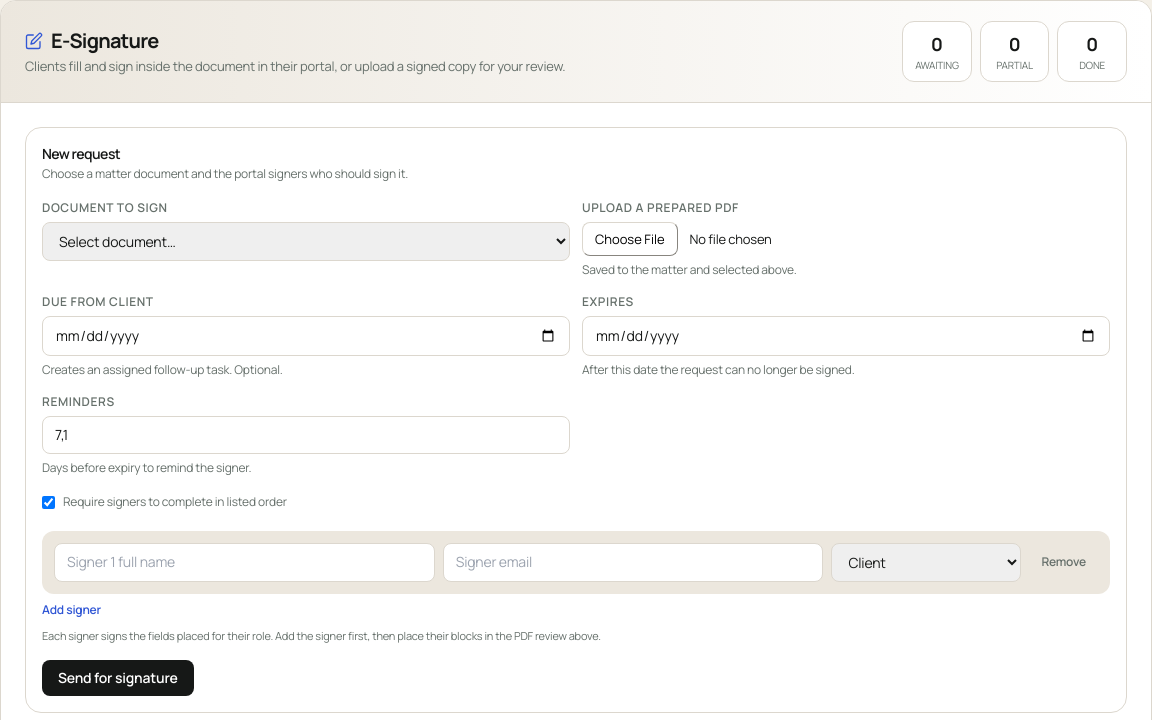
Test: gives each added signer their own role so their fields stay separate
Click the button "Add signer" at (72, 610), box left=42, top=602, right=101, bottom=618
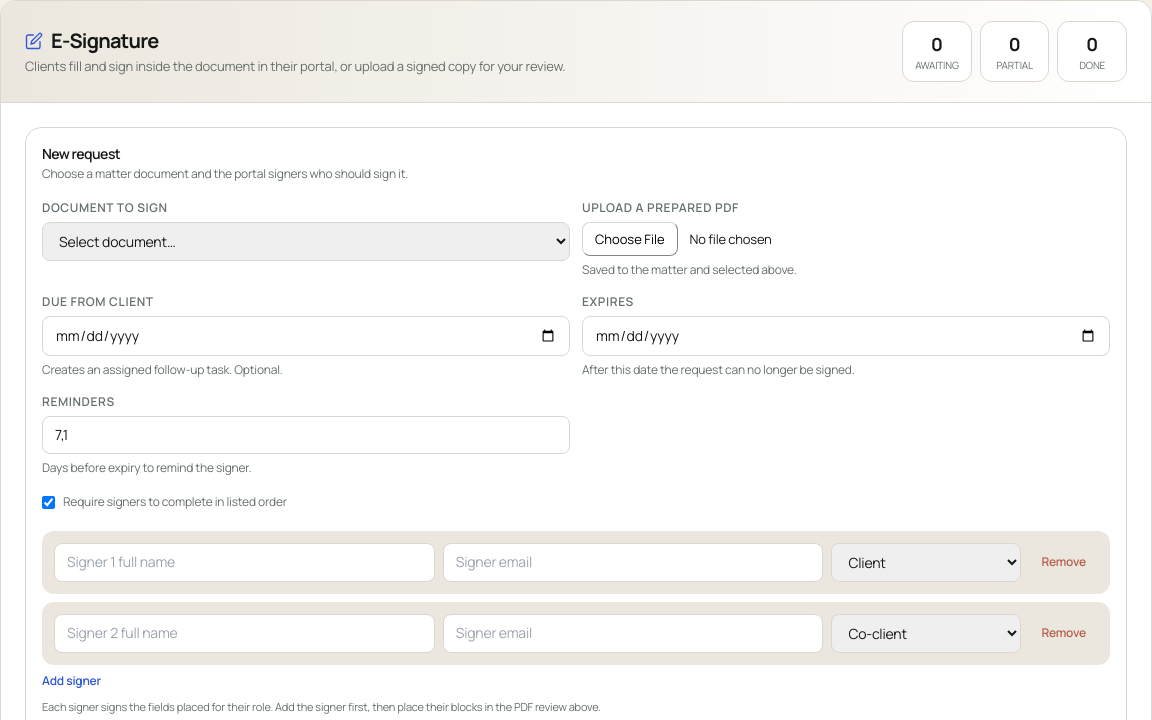
Select "Client" in the 3rd dropdown at (926, 633), box left=831, top=614, right=1021, bottom=652
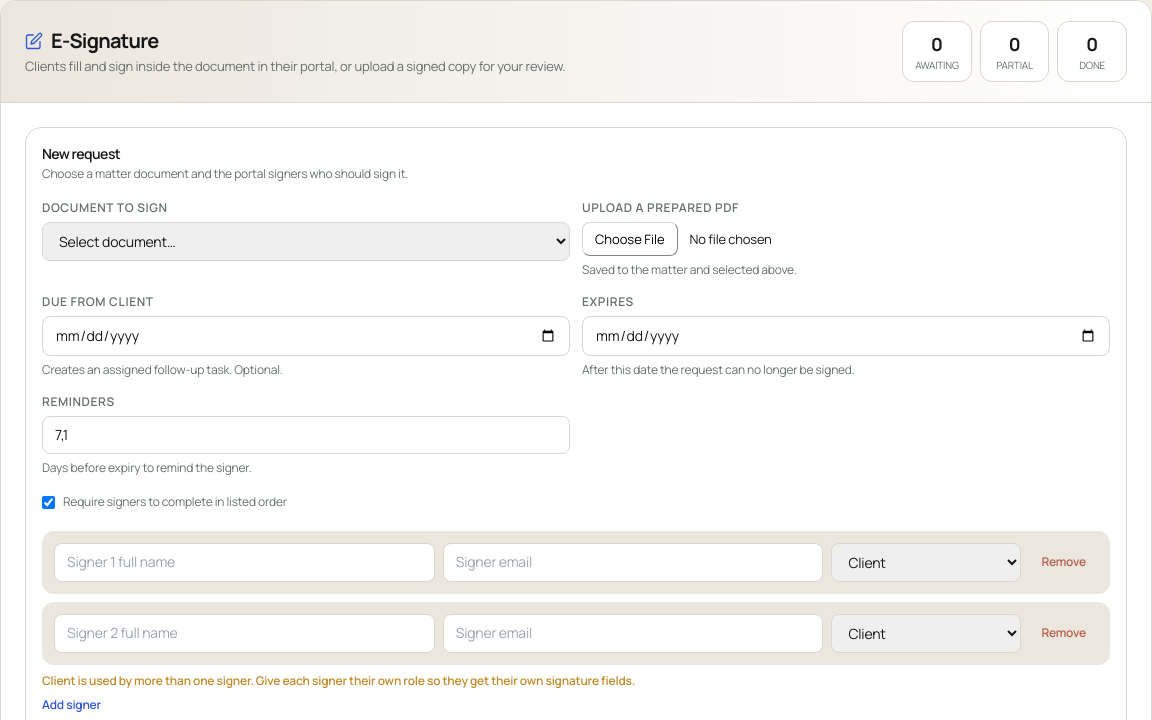
Now the message shows "Client is used by more than one signer", box left=42, top=672, right=635, bottom=688
